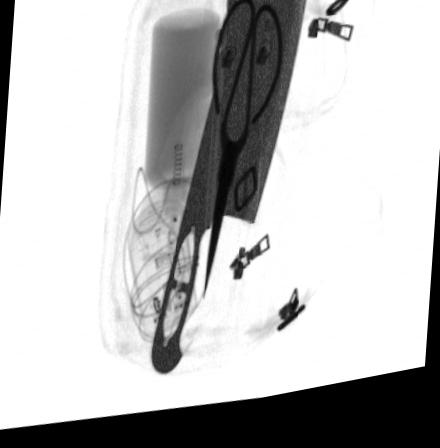Knife: (150, 0, 308, 380)
Scissors: (203, 2, 284, 310)
